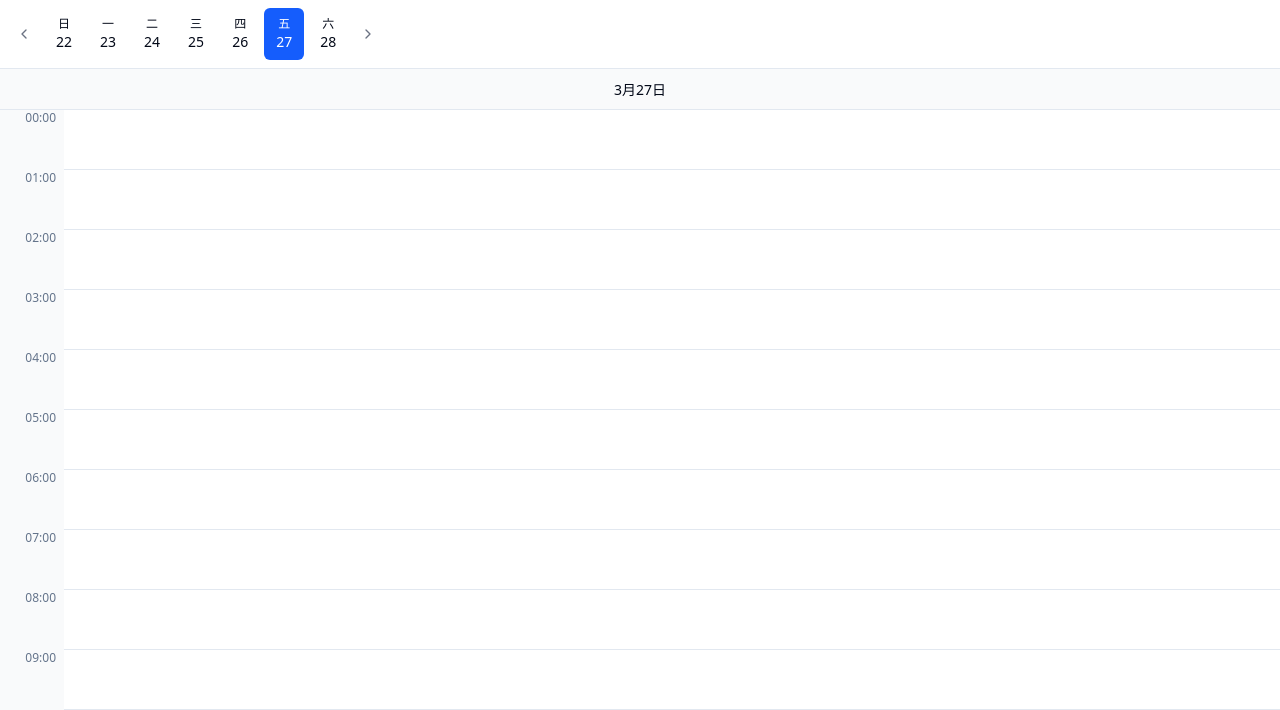
Test: WeekView (Refactored - Single Day Mode) › week navigation › clicking left arrow navigates to previous week
The width and height of the screenshot is (1280, 710).
Check: the text "22" is shown, box [56,32,72,52]
Click left arrow
Click the button named "上一周" at [24, 34], box [8,18,40,50]
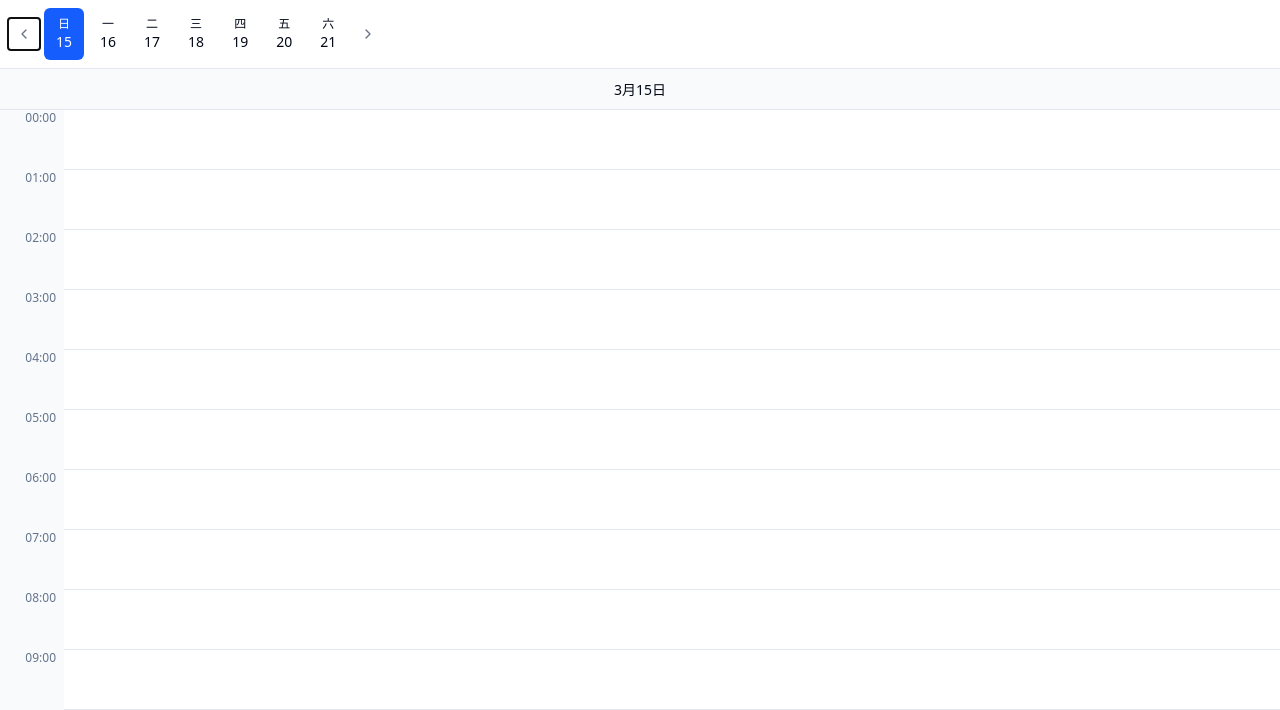
Check: the text "15" is shown, box [56,32,72,52]
